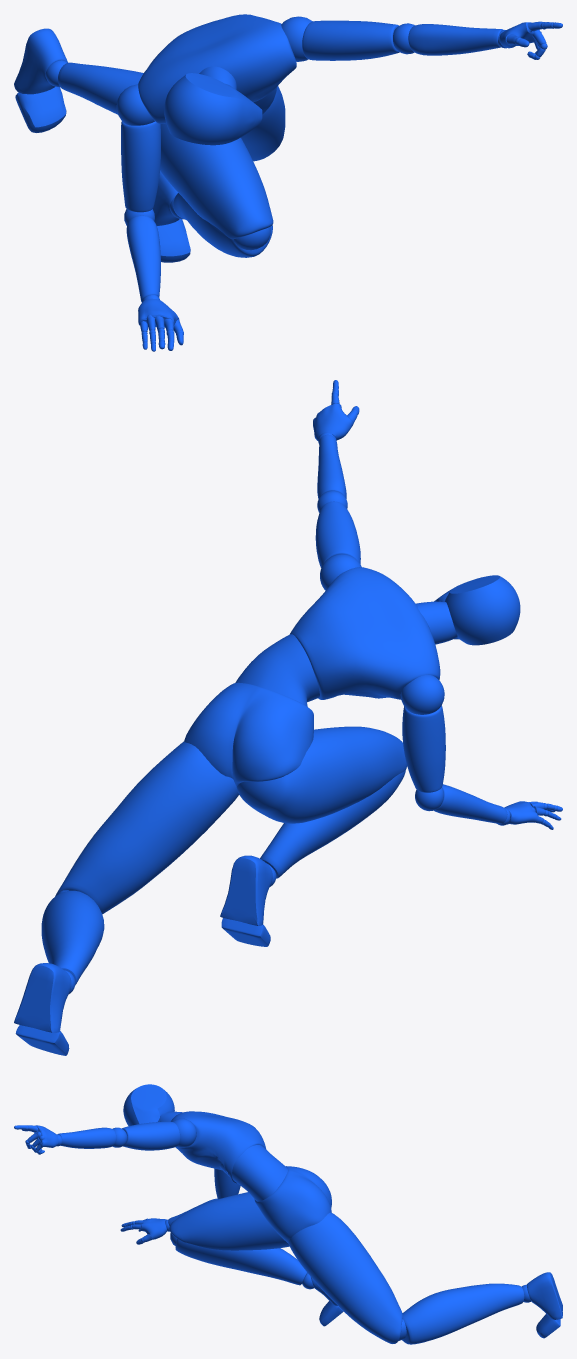
The model's file is GoddesSignCrouchSign002.fbx.
The picture shows the model from 3 angles, top to bottom: view 1: azimuth 30°, elevation 25°; view 2: azimuth 150°, elevation 25°; view 3: azimuth 270°, elevation 25°; orthographic projection. The views are drawn at different scales.
Parts seen in each view (by area): view 1: Adjustable Mannequin Mesh; view 2: Adjustable Mannequin Mesh; view 3: Adjustable Mannequin Mesh.
Part boxes in pixels (x1,y1,x2,y2): Adjustable Mannequin Mesh: (14, 14, 562, 351); Adjustable Mannequin Mesh: (14, 380, 562, 1055); Adjustable Mannequin Mesh: (14, 1084, 562, 1344).
Bounding box in the file's own units: 67.89 × 75.25 × 153.
